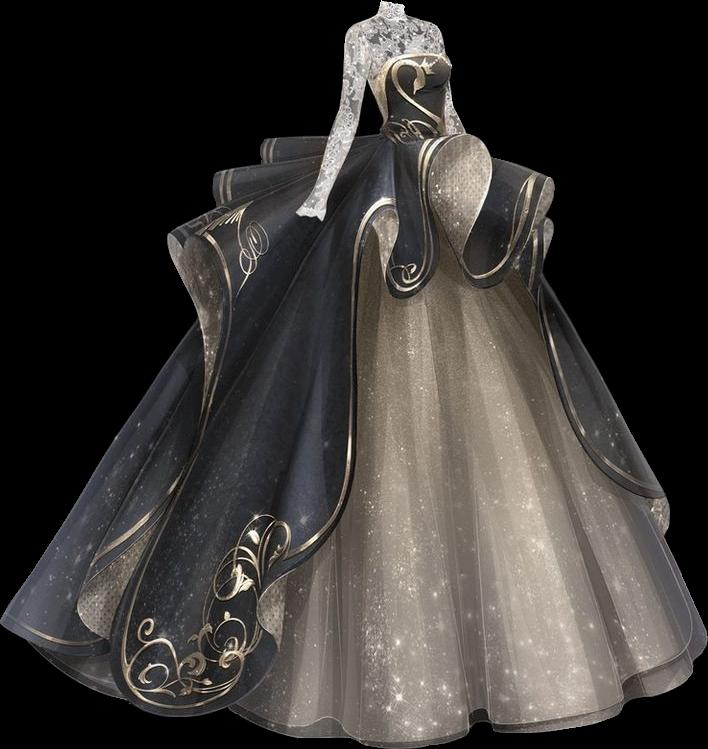Bodice: (351, 0, 450, 142)
Hemline: (1, 617, 707, 748)
Neckline: (371, 50, 447, 102), (377, 0, 406, 13)
Skirt: (1, 131, 706, 748)
Sleeve: (296, 27, 366, 220)
Sleeveline: (347, 26, 375, 85)
Waistline: (378, 129, 450, 148)
